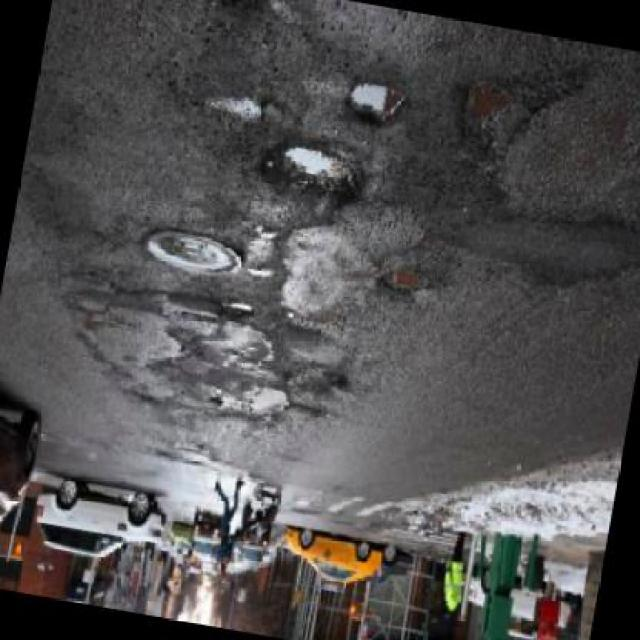pothole1: (259, 133, 367, 210), (446, 72, 520, 152), (338, 74, 408, 138), (372, 261, 442, 308), (219, 299, 255, 323)
